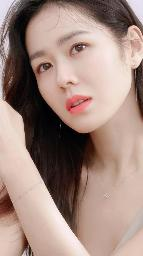face: (28, 8, 126, 132)
